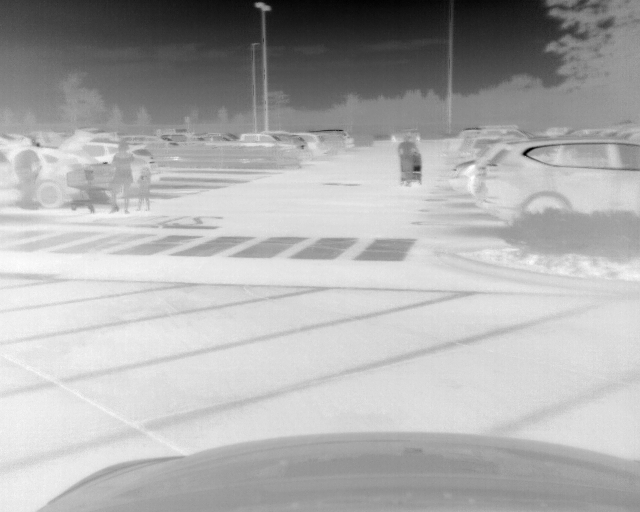car: (471, 138, 640, 226), (1, 145, 101, 210), (67, 142, 154, 197), (239, 130, 302, 162), (303, 131, 333, 159), (390, 128, 423, 143)
people: (107, 142, 135, 214), (13, 149, 45, 210), (395, 135, 420, 187), (134, 155, 151, 212)
